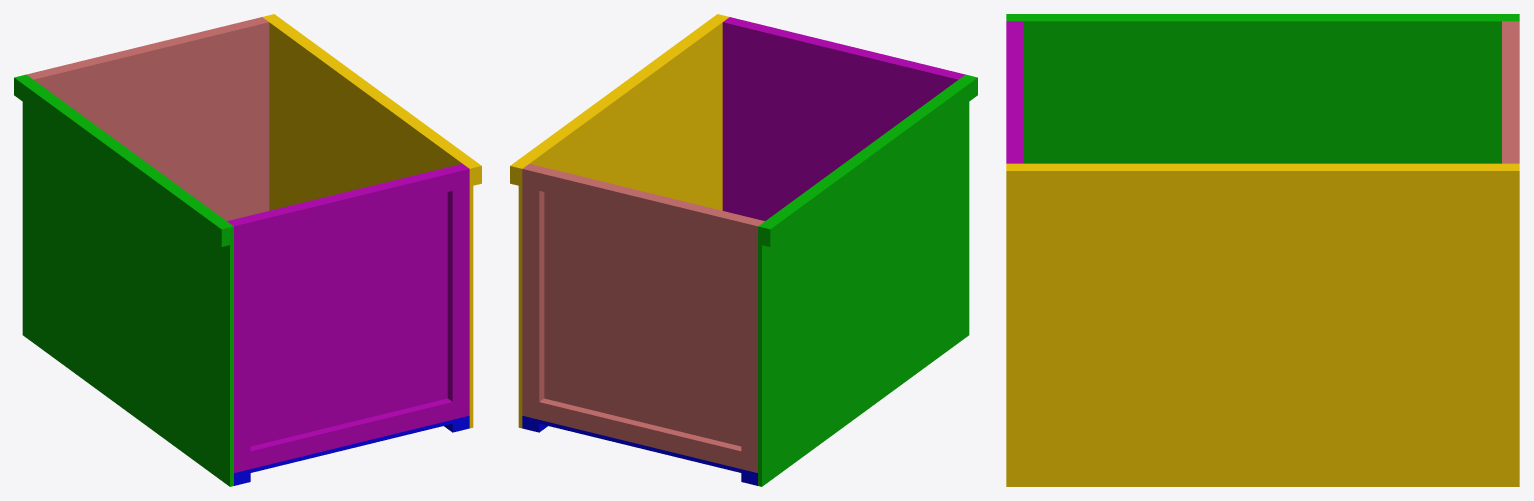
The model's file is result.glb.
3 views of the same model, side by side, from view 1: azimuth 30°, elevation 25°; view 2: azimuth 150°, elevation 25°; view 3: azimuth 270°, elevation 25° (orthographic). The views are drawn at different scales.
Visible parts, largest first — view 1: 08299ec5-53a3-4f4d-a537-b9c7c228225b__Box_6, c6d7a45d-5000-4f4f-94e2-4f201b00842b__Box_3, 140dd331-f5c8-4f07-93a4-9f26c7fd96bc__undefined, 965d1fc2-98a3-4a36-8afb-f6293b28c310__undefined, 9f341c0d-f53c-4ffa-9e55-9c95cb9221e5__Box_7, 6b8e6876-1d84-4c92-9540-bf5e56807104__undefined, 5c8da936-5787-4da4-bc82-45ec101e1b2c__undefined, 4abb1ca0-fa04-4eba-82df-f015553b4e17__Box_5, fc8e0a6c-d155-41e9-8b18-95a3c166db23__Box_4, c0702bc9-57a6-4bf2-b811-32e91197a996__undefined, a25d592b-8aa1-4738-ab47-c8b222a8f31b__undefined, 65ec8897-12cf-4273-968e-a25c19eb9dca__Box; view 2: 08299ec5-53a3-4f4d-a537-b9c7c228225b__Box_6, 140dd331-f5c8-4f07-93a4-9f26c7fd96bc__undefined, c6d7a45d-5000-4f4f-94e2-4f201b00842b__Box_3, 965d1fc2-98a3-4a36-8afb-f6293b28c310__undefined, 9f341c0d-f53c-4ffa-9e55-9c95cb9221e5__Box_7, 791091d0-2e92-40f1-9335-88ae20af3594__undefined, a25d592b-8aa1-4738-ab47-c8b222a8f31b__undefined, 8f031022-d3a0-42b3-be7d-6bcb9afde56f__undefined, 14ef3e3b-57f9-4703-8577-b4e5c36f5918__undefined, c0702bc9-57a6-4bf2-b811-32e91197a996__undefined, 5c8da936-5787-4da4-bc82-45ec101e1b2c__undefined, 65ec8897-12cf-4273-968e-a25c19eb9dca__Box; view 3: 965d1fc2-98a3-4a36-8afb-f6293b28c310__undefined, 08299ec5-53a3-4f4d-a537-b9c7c228225b__Box_6, c0702bc9-57a6-4bf2-b811-32e91197a996__undefined, 9f341c0d-f53c-4ffa-9e55-9c95cb9221e5__Box_7, 5c8da936-5787-4da4-bc82-45ec101e1b2c__undefined, a25d592b-8aa1-4738-ab47-c8b222a8f31b__undefined, c6d7a45d-5000-4f4f-94e2-4f201b00842b__Box_3, 140dd331-f5c8-4f07-93a4-9f26c7fd96bc__undefined.
Part boxes in pixels (x1,y1,x2,y2): 08299ec5-53a3-4f4d-a537-b9c7c228225b__Box_6: [22, 74, 233, 486]; c6d7a45d-5000-4f4f-94e2-4f201b00842b__Box_3: [227, 163, 464, 446]; 140dd331-f5c8-4f07-93a4-9f26c7fd96bc__undefined: [31, 20, 269, 220]; 965d1fc2-98a3-4a36-8afb-f6293b28c310__undefined: [262, 16, 473, 428]; 9f341c0d-f53c-4ffa-9e55-9c95cb9221e5__Box_7: [14, 75, 229, 246]; 6b8e6876-1d84-4c92-9540-bf5e56807104__undefined: [447, 165, 469, 419]; 5c8da936-5787-4da4-bc82-45ec101e1b2c__undefined: [246, 169, 452, 239]; 4abb1ca0-fa04-4eba-82df-f015553b4e17__Box_5: [250, 398, 452, 468]; fc8e0a6c-d155-41e9-8b18-95a3c166db23__Box_4: [229, 218, 250, 472]; c0702bc9-57a6-4bf2-b811-32e91197a996__undefined: [266, 14, 481, 185]; a25d592b-8aa1-4738-ab47-c8b222a8f31b__undefined: [43, 21, 249, 73]; 65ec8897-12cf-4273-968e-a25c19eb9dca__Box: [234, 415, 469, 476]; 08299ec5-53a3-4f4d-a537-b9c7c228225b__Box_6: [758, 74, 969, 486]; 140dd331-f5c8-4f07-93a4-9f26c7fd96bc__undefined: [527, 163, 764, 446]; c6d7a45d-5000-4f4f-94e2-4f201b00842b__Box_3: [722, 20, 960, 220]; 965d1fc2-98a3-4a36-8afb-f6293b28c310__undefined: [518, 16, 729, 428]; 9f341c0d-f53c-4ffa-9e55-9c95cb9221e5__Box_7: [762, 75, 977, 246]; 791091d0-2e92-40f1-9335-88ae20af3594__undefined: [522, 165, 544, 419]; a25d592b-8aa1-4738-ab47-c8b222a8f31b__undefined: [539, 169, 745, 239]; 8f031022-d3a0-42b3-be7d-6bcb9afde56f__undefined: [539, 398, 741, 468]; 14ef3e3b-57f9-4703-8577-b4e5c36f5918__undefined: [741, 218, 762, 472]; c0702bc9-57a6-4bf2-b811-32e91197a996__undefined: [510, 14, 725, 185]; 5c8da936-5787-4da4-bc82-45ec101e1b2c__undefined: [742, 21, 948, 73]; 65ec8897-12cf-4273-968e-a25c19eb9dca__Box: [522, 415, 757, 476]; 965d1fc2-98a3-4a36-8afb-f6293b28c310__undefined: [1006, 163, 1519, 486]; 08299ec5-53a3-4f4d-a537-b9c7c228225b__Box_6: [1006, 19, 1519, 163]; c0702bc9-57a6-4bf2-b811-32e91197a996__undefined: [1006, 166, 1519, 192]; 9f341c0d-f53c-4ffa-9e55-9c95cb9221e5__Box_7: [1006, 14, 1519, 18]; 5c8da936-5787-4da4-bc82-45ec101e1b2c__undefined: [1006, 31, 1018, 153]; a25d592b-8aa1-4738-ab47-c8b222a8f31b__undefined: [1507, 31, 1519, 153]; c6d7a45d-5000-4f4f-94e2-4f201b00842b__Box_3: [1018, 21, 1023, 163]; 140dd331-f5c8-4f07-93a4-9f26c7fd96bc__undefined: [1502, 21, 1507, 163].
Size of the model in its own units: 552 by 526 by 762.
